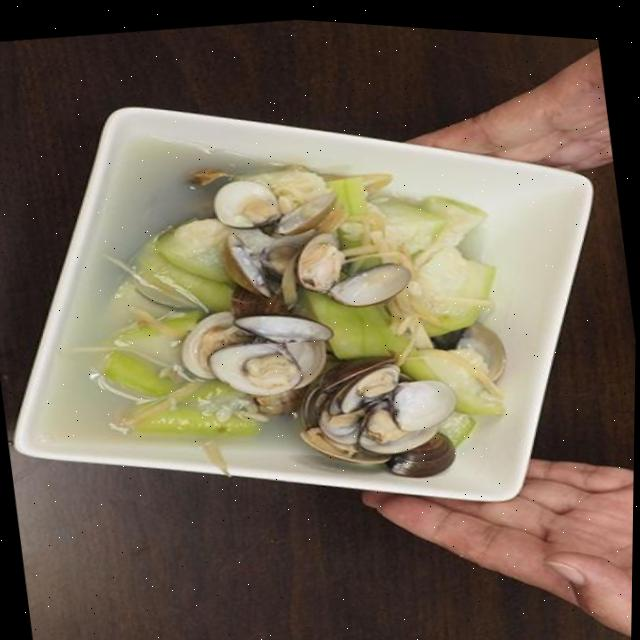Wet: (79, 137, 540, 507)
